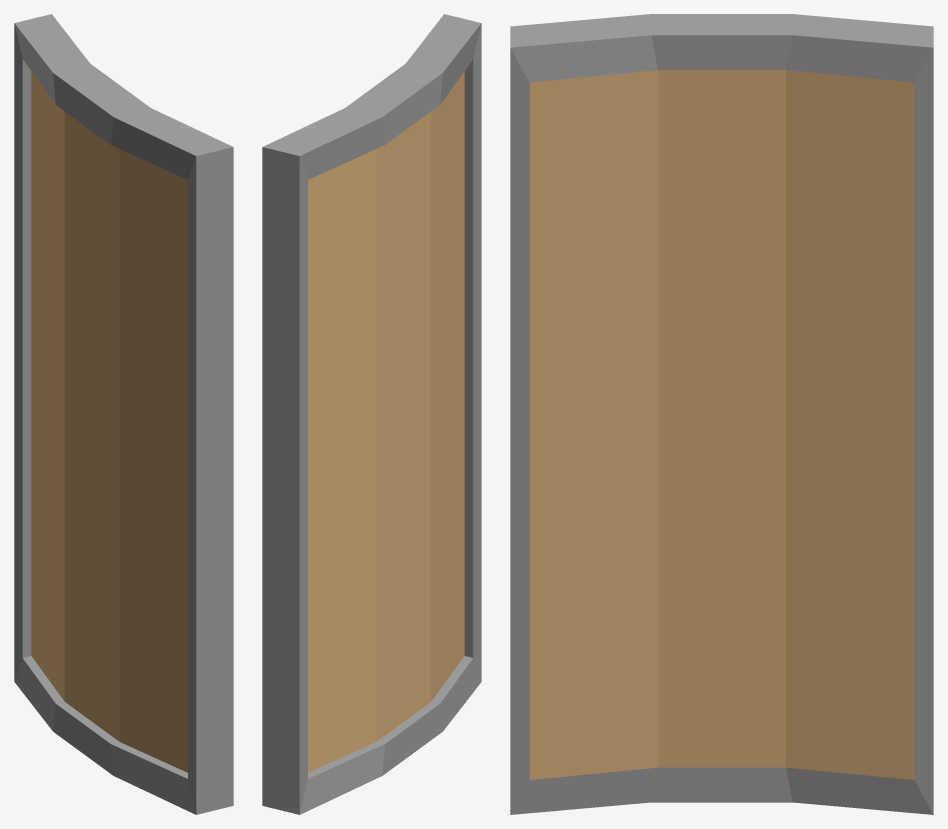
Rendered from shield metal.fbx.
3 renders of one model, left to right at view 1: azimuth 30°, elevation 25°; view 2: azimuth 150°, elevation 25°; view 3: azimuth 270°, elevation 25°, orthographic. The views are drawn at different scales.
Visible parts, largest first — view 1: Cube.016; view 2: Cube.016; view 3: Cube.016.
Boxes of the visible parts, x1=… form: Cube.016: x1=14, y1=14, x2=233, y2=814; Cube.016: x1=262, y1=14, x2=481, y2=814; Cube.016: x1=510, y1=14, x2=933, y2=814.
Size of the model in its own units: 41.45 by 440 by 220.
